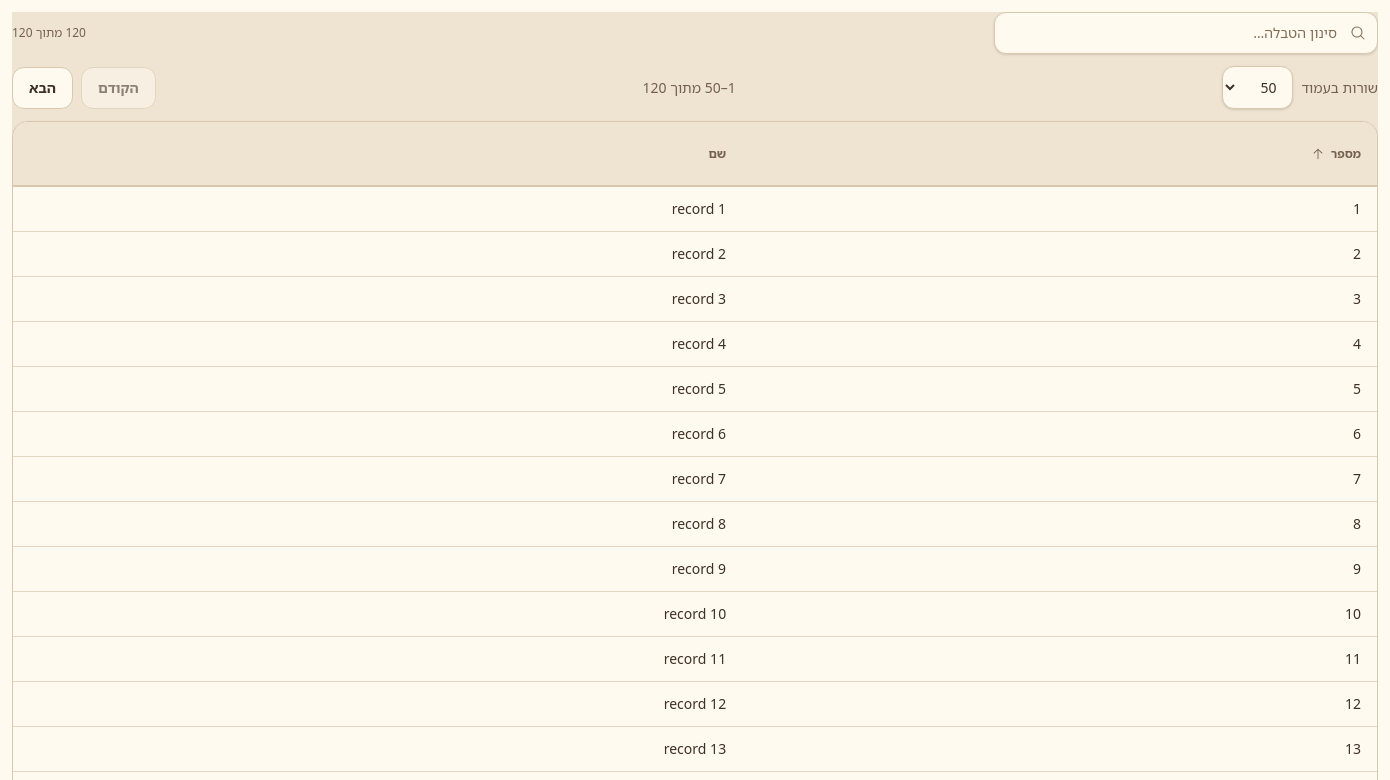
Test: DataTable pagination › starts with 50 rows and reaches every record with accurate ranges and boundaries
Expected: the text "1–50 מתוך 120" is shown, [642,78,736,98]
Expected: the button with aria-label "העמוד הקודם" is disabled, [81,66,156,108]
Click the button with aria-label "העמוד הבא" at (42, 88), box [12,66,73,108]
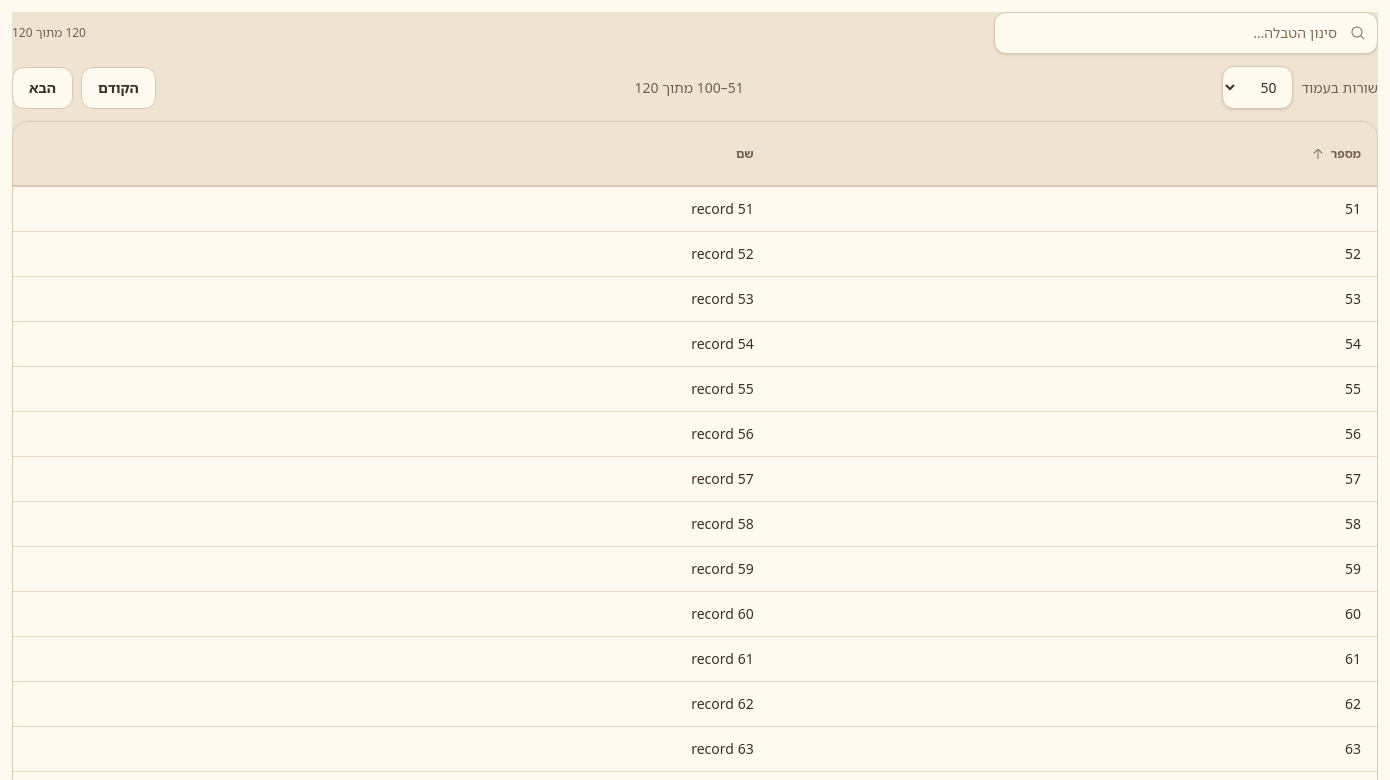
Expected: the text "51–100 מתוך 120" is shown, [634,78,744,98]
Click the button with aria-label "העמוד הבא" at (42, 88), box [12,66,73,108]
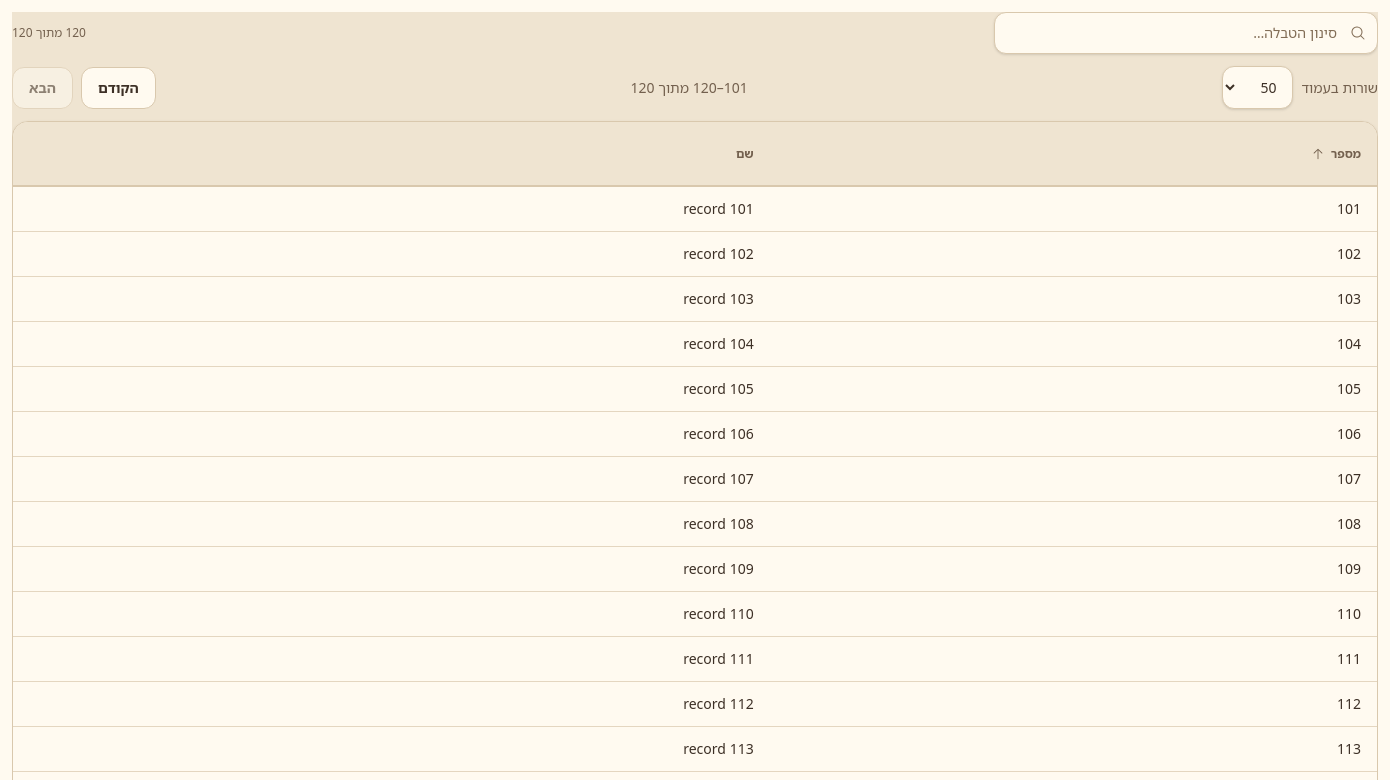
Expected: the text "101–120 מתוך 120" is shown, [630,78,748,98]
Expected: the button with aria-label "העמוד הבא" is disabled, [12,66,73,108]
Click the button with aria-label "העמוד הקודם" at (118, 88), box [81,66,156,108]
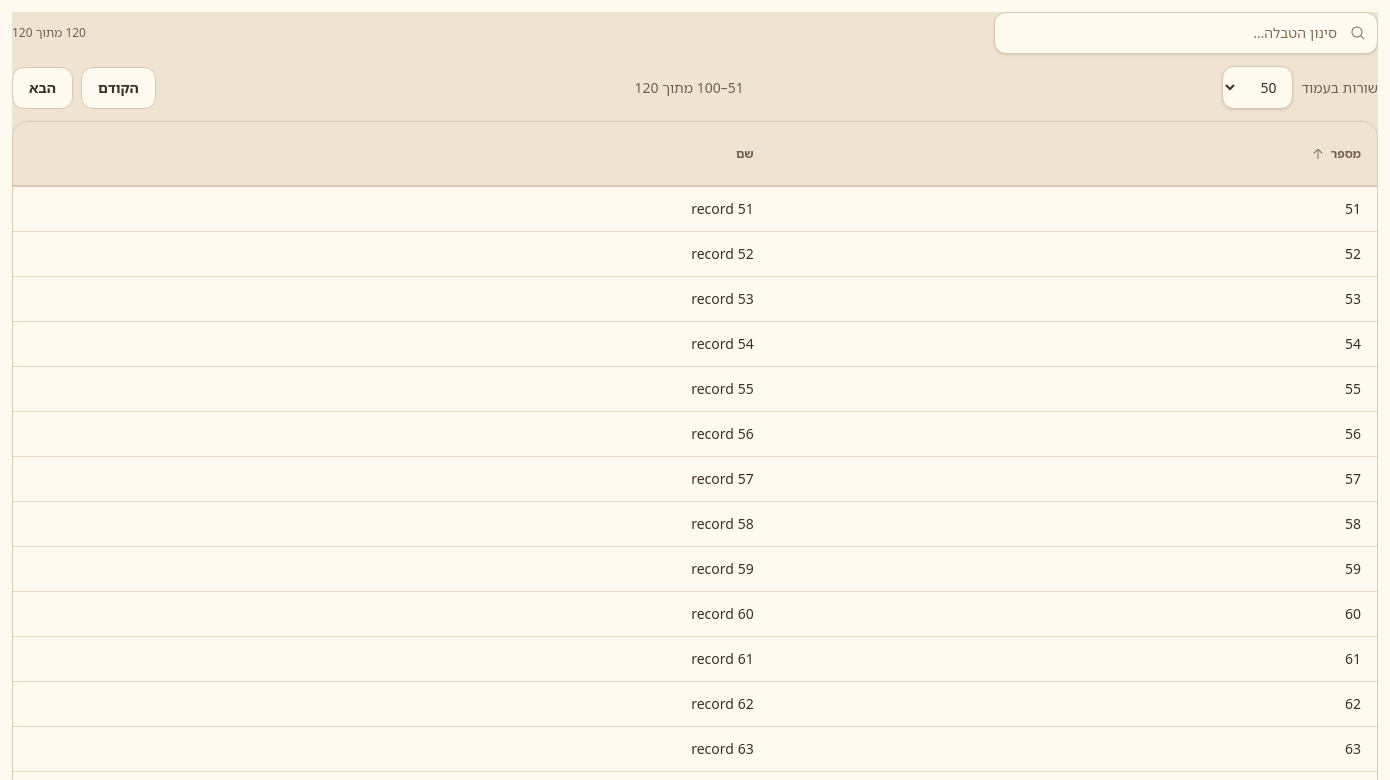
Expected: the text "51–100 מתוך 120" is shown, [634,78,744,98]
